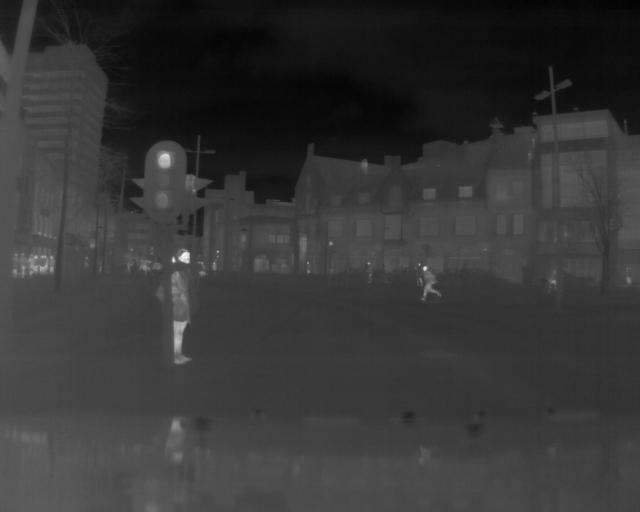person: (169, 247, 197, 372), (419, 264, 443, 305)
